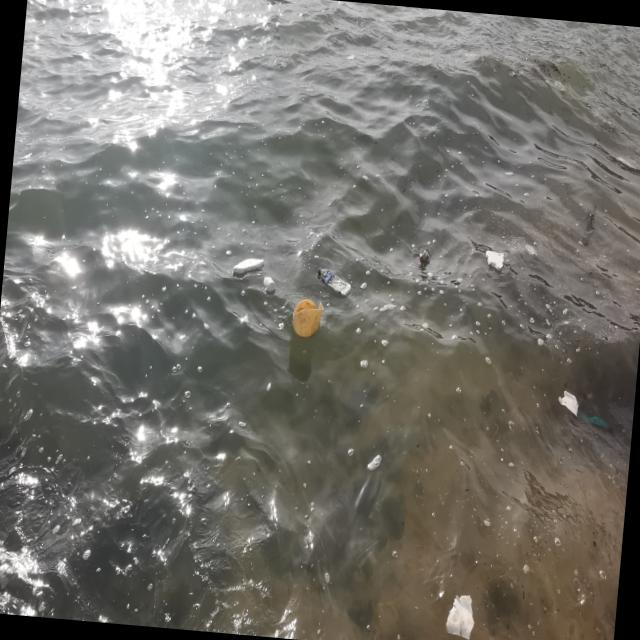can: (419, 249, 433, 266)
foam: (441, 589, 476, 640), (234, 255, 265, 278), (559, 390, 581, 419), (483, 252, 506, 272)
plastic bottle: (317, 267, 353, 300), (263, 275, 278, 297)
